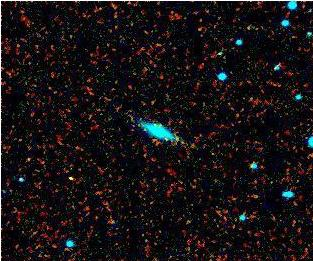star: (166, 126, 196, 156)
